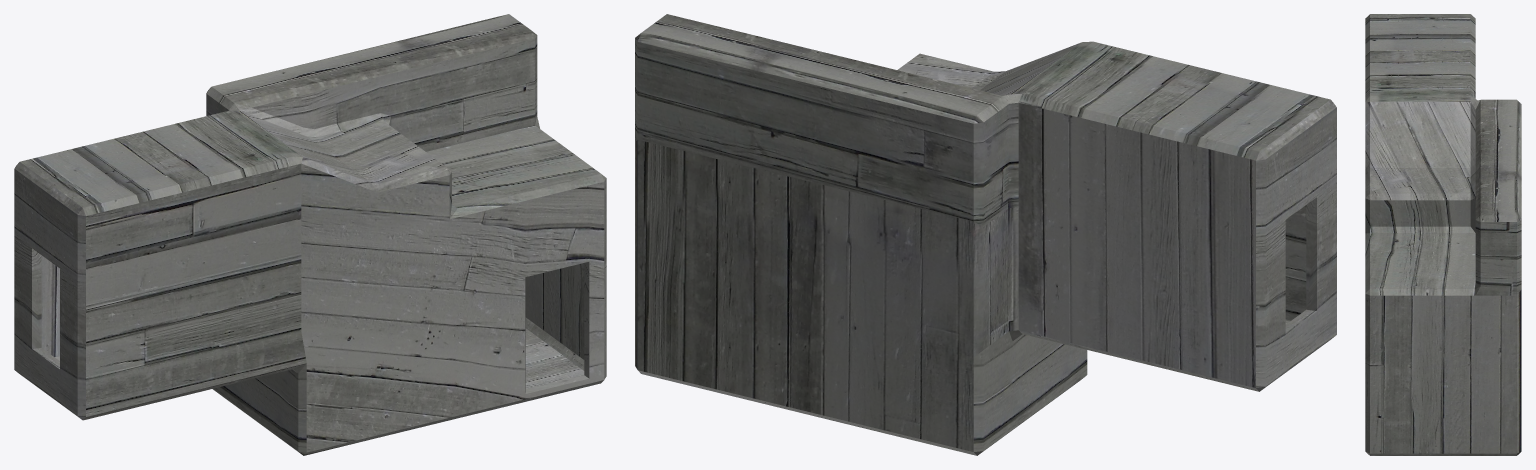
3 renders of one model, left to right at view 1: azimuth 30°, elevation 25°; view 2: azimuth 150°, elevation 25°; view 3: azimuth 270°, elevation 25°, orthographic. The views are drawn at different scales.
Parts seen in each view (by area): view 1: 53; view 2: 53; view 3: 53.
Part boxes in pixels (x1=…): 53: x1=14, y1=14, x2=606, y2=455; 53: x1=635, y1=14, x2=1336, y2=455; 53: x1=1365, y1=14, x2=1521, y2=455.
Bounding box in the file's own units: 1043 × 569 × 336.
